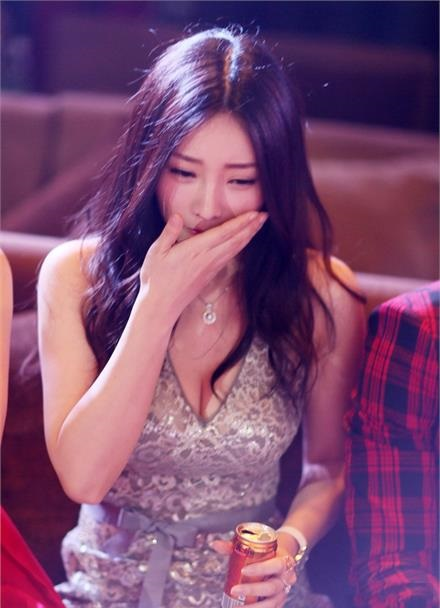face: (160, 106, 261, 271)
